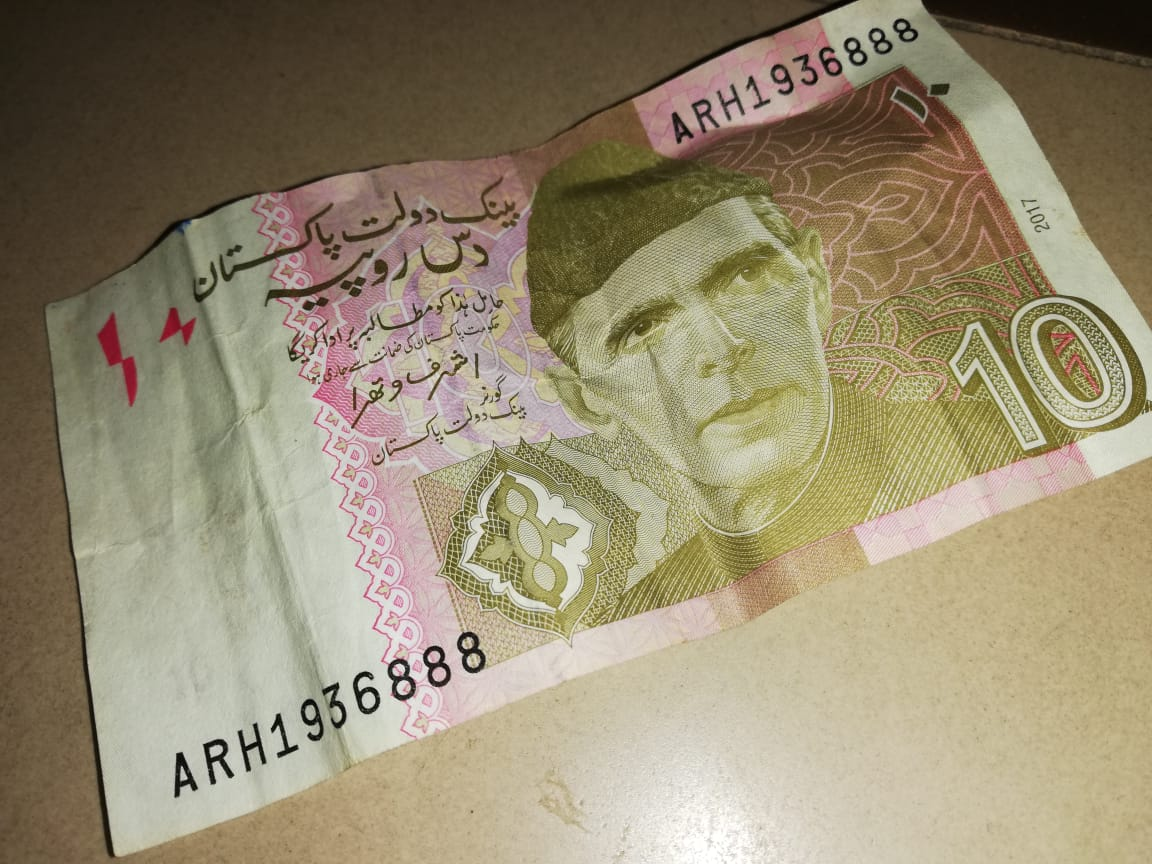10 rupee: (47, 11, 1137, 864)
